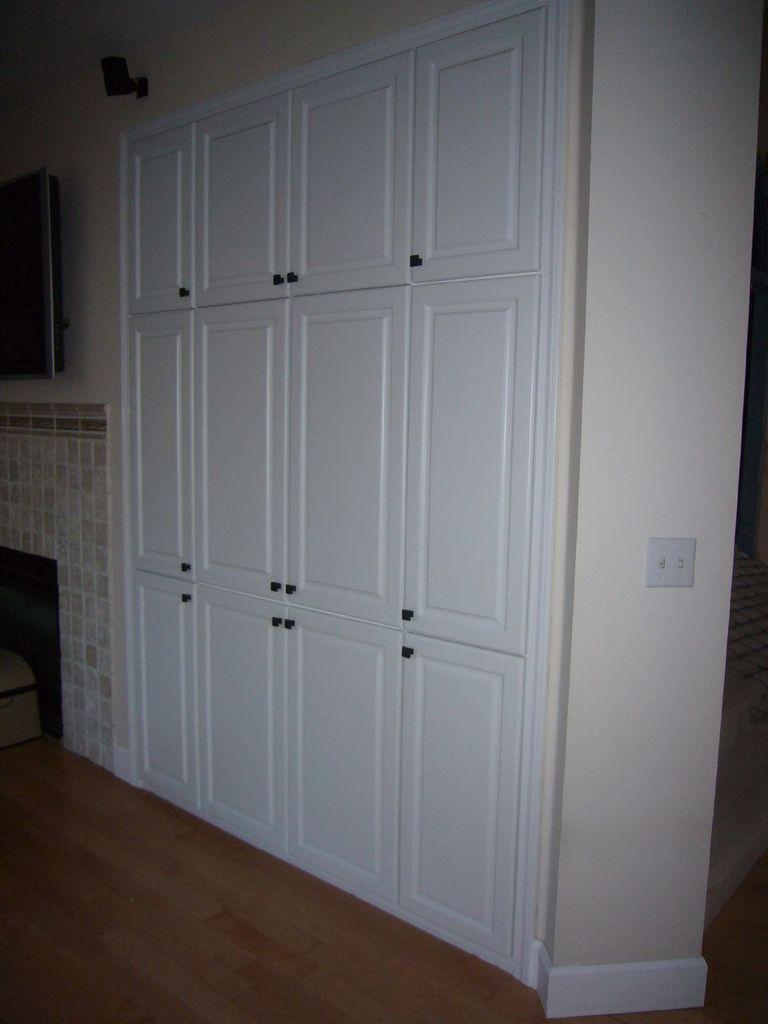cabinet_door: (406, 296, 522, 637), (287, 314, 398, 610), (401, 650, 519, 914), (278, 613, 394, 865), (414, 53, 540, 266), (288, 100, 400, 298), (204, 312, 280, 594), (192, 582, 276, 810), (136, 324, 194, 579), (206, 120, 284, 296), (137, 580, 195, 774), (135, 145, 190, 300)
handle: (270, 254, 285, 294), (409, 242, 424, 278), (400, 642, 419, 670), (178, 546, 193, 580), (286, 260, 300, 296), (282, 570, 298, 598), (282, 612, 298, 640), (176, 276, 190, 307), (401, 603, 416, 631), (267, 612, 283, 638), (178, 584, 192, 612), (268, 579, 282, 603)
